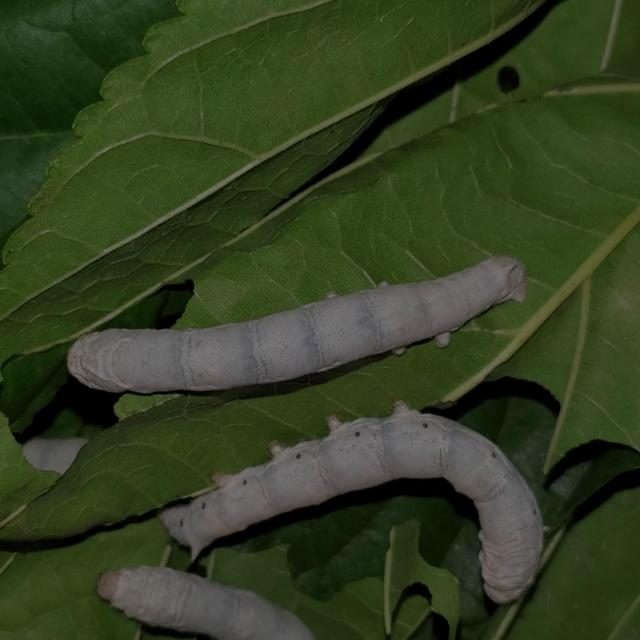Healthy: (52, 228, 544, 396), (151, 410, 566, 603)
